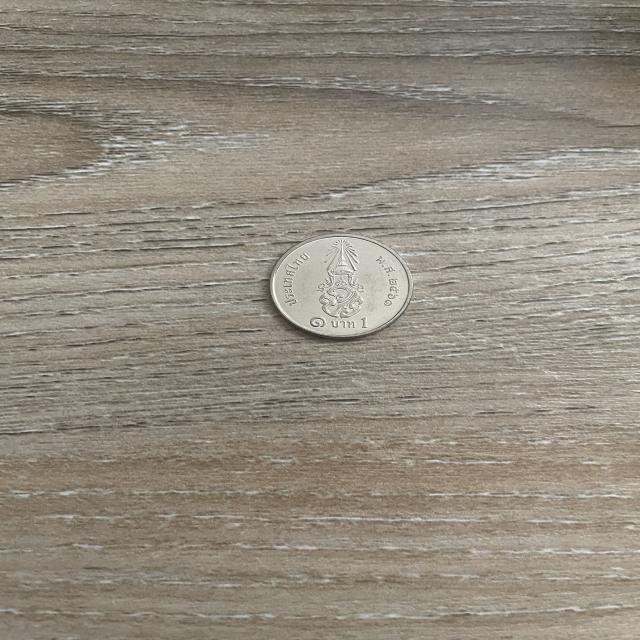1 Bath: (266, 227, 424, 347)
